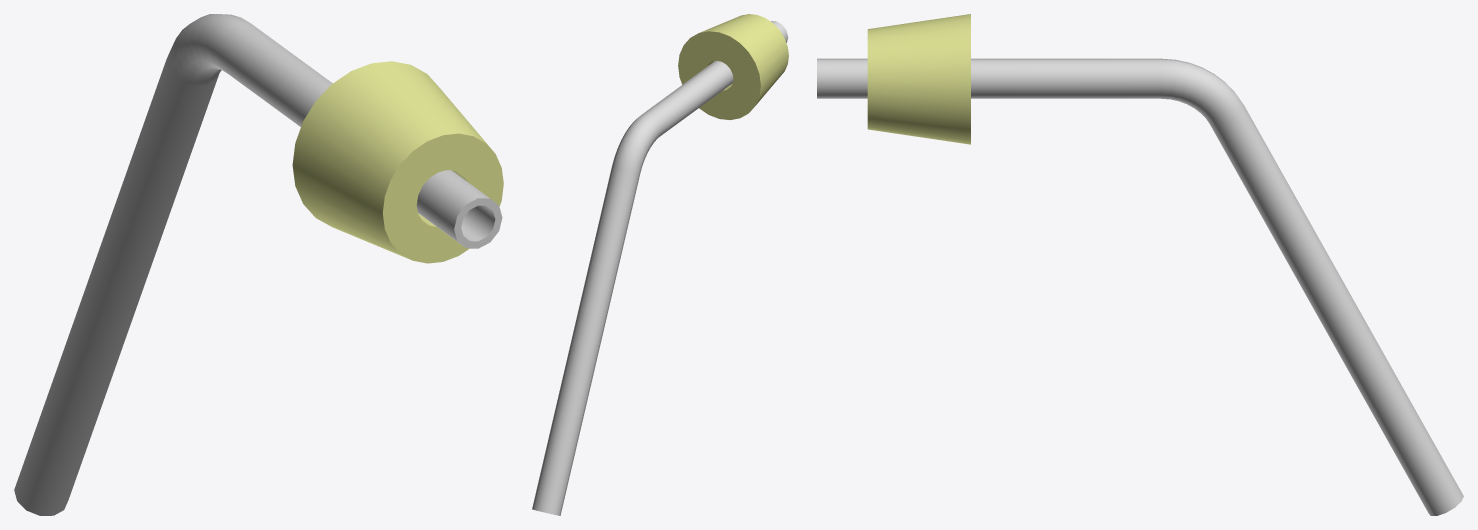
3 renders of one model, left to right at view 1: azimuth 30°, elevation 25°; view 2: azimuth 150°, elevation 25°; view 3: azimuth 270°, elevation 25°, orthographic. The views are drawn at different scales.
Visible parts, largest first — view 1: Line010, 模型\胶塞; view 2: Line010, 模型\胶塞; view 3: Line010, 模型\胶塞.
Part boxes in pixels (x1,y1,x2,y2): Line010: (14, 14, 502, 515); 模型\胶塞: (292, 61, 503, 263); Line010: (532, 21, 788, 515); 模型\胶塞: (678, 14, 788, 119); Line010: (817, 58, 1463, 515); 模型\胶塞: (867, 14, 970, 144).
Size of the model in its own units: 1.57 by 6.5 by 7.73.
